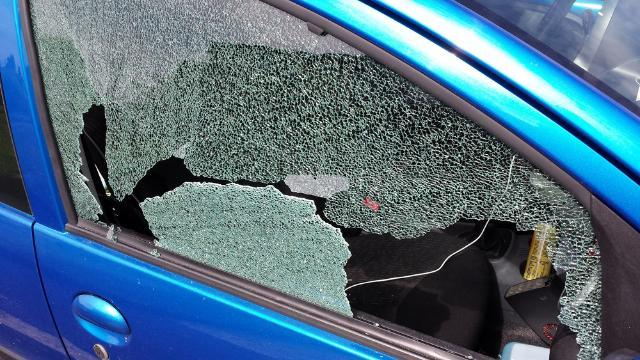glass shatter: (28, 0, 602, 360)
